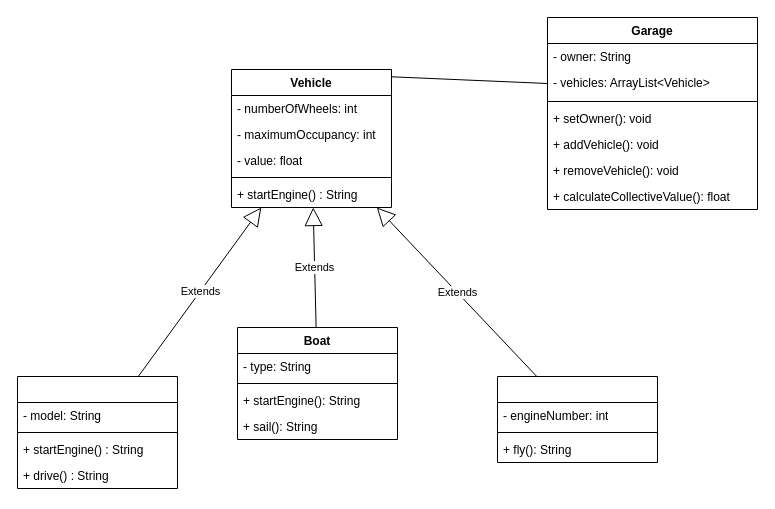
Image size: 775x509. Some labels were removed from this diagram. Here are the shapes that lost their labels. From the top down, the box of each, then its label:
(16, 376, 178, 488): Car
(496, 376, 658, 462): Plane
